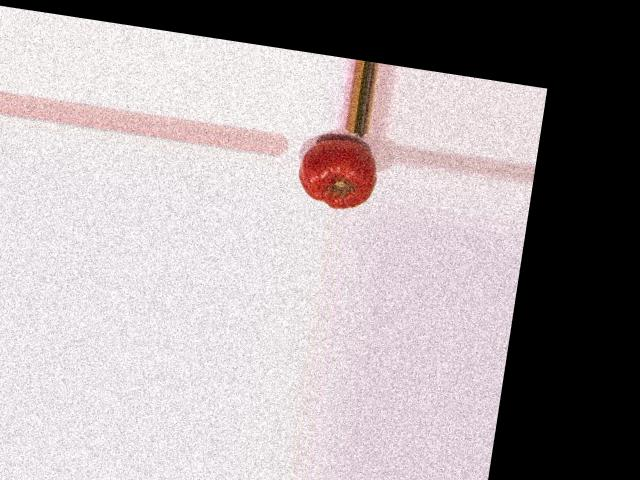tomato: (295, 134, 380, 213)
